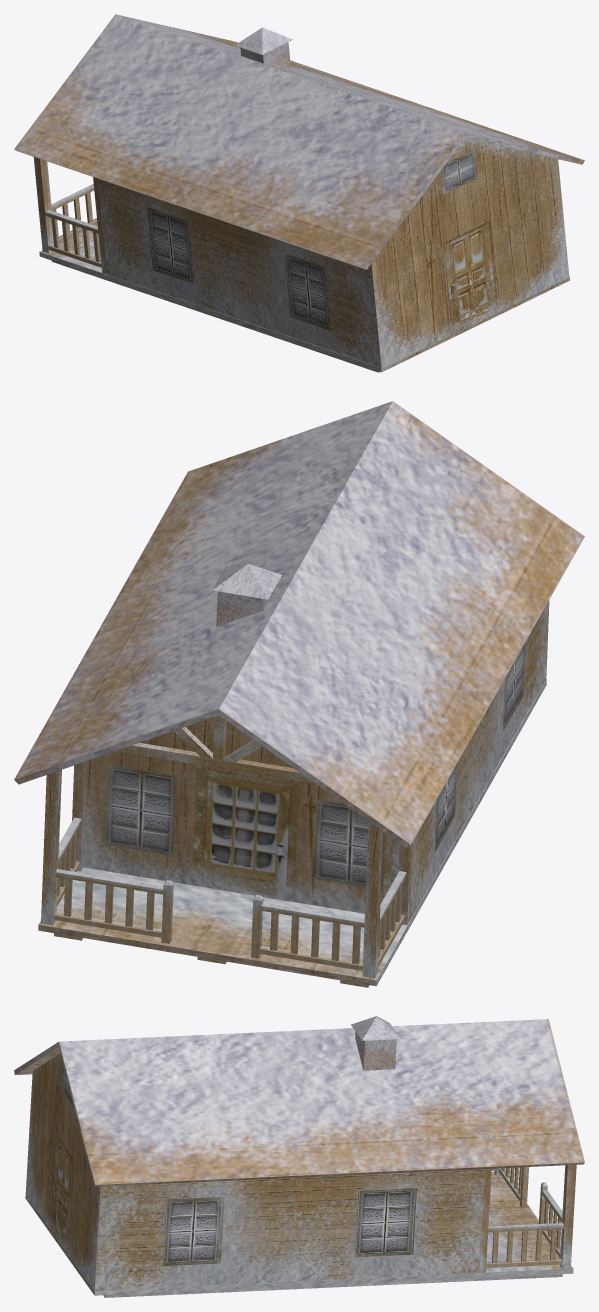
File: cottage.obj
The picture shows the model from 3 angles, top to bottom: view 1: azimuth 30°, elevation 25°; view 2: azimuth 150°, elevation 25°; view 3: azimuth 270°, elevation 25°; orthographic projection. The views are drawn at different scales.
Parts seen in each view (by area): view 1: Snow_covered_CottageOBJ.001; view 2: Snow_covered_CottageOBJ.001; view 3: Snow_covered_CottageOBJ.001.
Part boxes in pixels (x1,y1,x2,y2): Snow_covered_CottageOBJ.001: (14, 14, 584, 372); Snow_covered_CottageOBJ.001: (14, 401, 584, 987); Snow_covered_CottageOBJ.001: (14, 1016, 584, 1297).
Bounding box in the file's own units: 103 × 63.95 × 135.
Materials: 1 (1 with a texture image).
